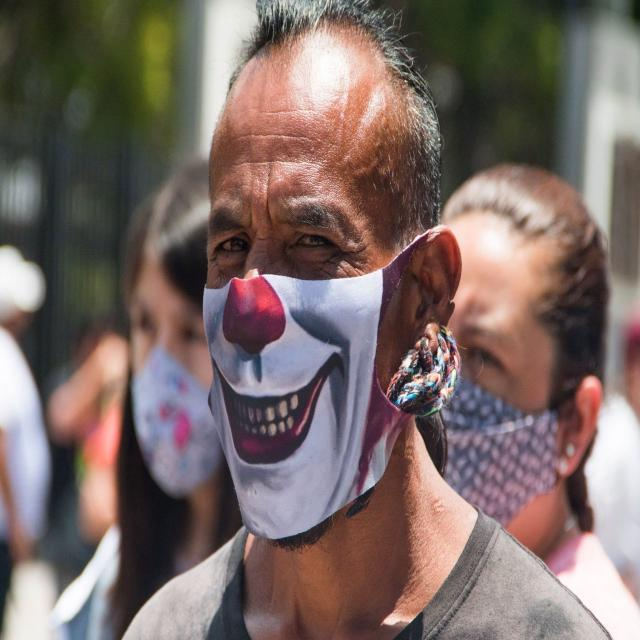adult: (122, 5, 570, 640)
